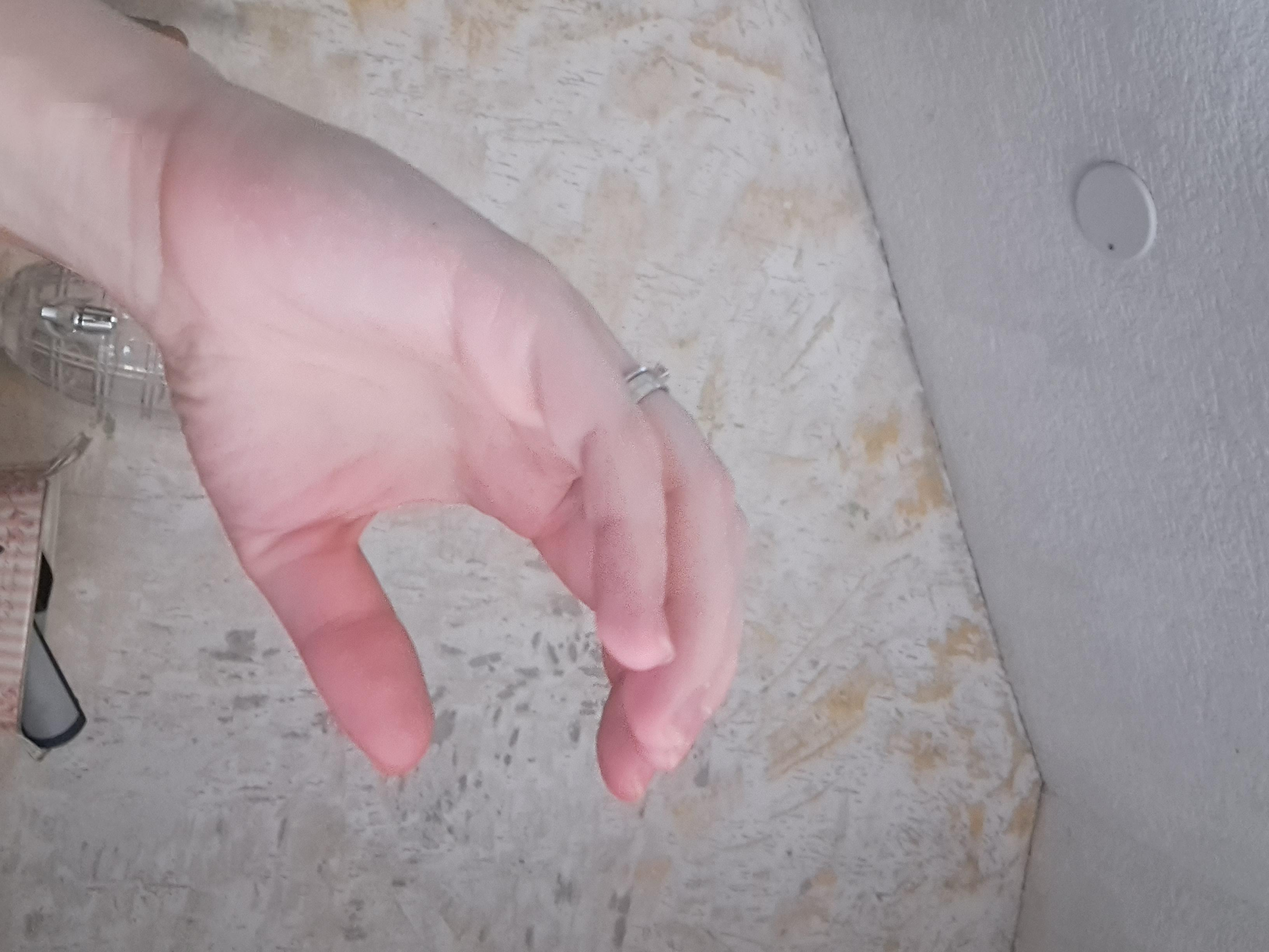C: (104, 376, 1120, 834)
